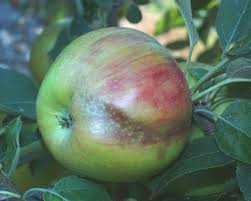damaged_apple: (41, 31, 197, 176)
